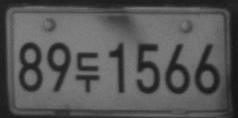1: (105, 42, 133, 93)
5: (136, 43, 160, 94)
6: (164, 43, 191, 95), (194, 43, 221, 95)
8: (17, 41, 43, 92)
9: (46, 41, 71, 92)
두: (75, 51, 100, 93)
